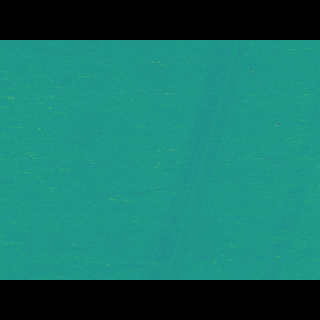Loch: (139, 68, 267, 250), (257, 93, 320, 248)
